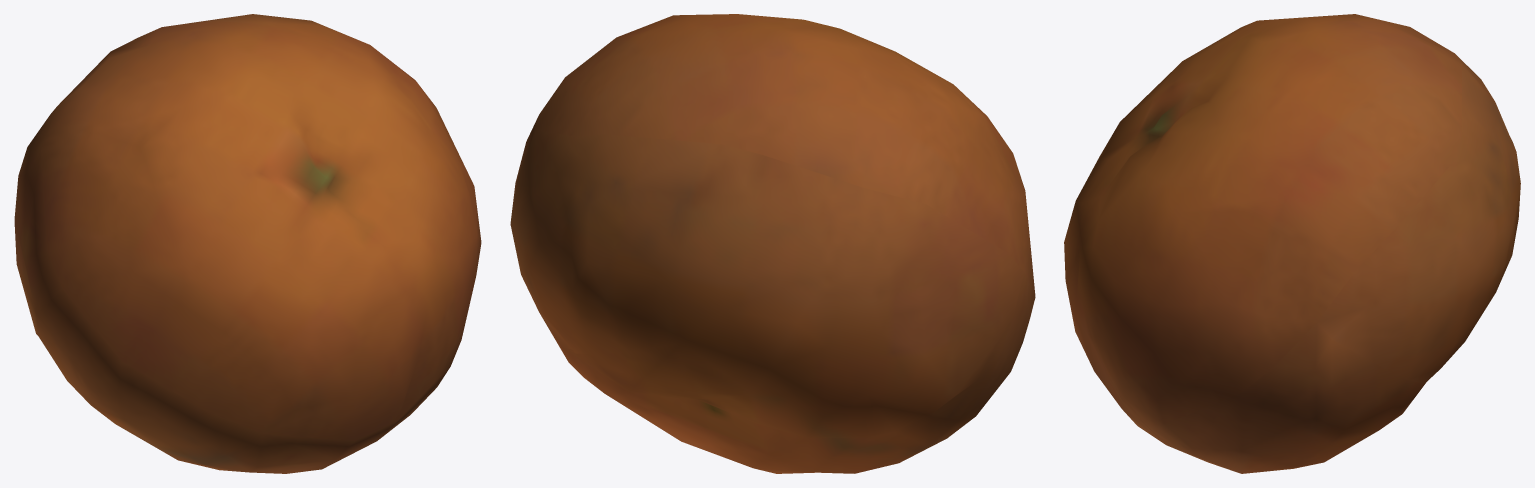
The model's file is Orange.obj.
3 renders of one model, left to right at view 1: azimuth 30°, elevation 25°; view 2: azimuth 150°, elevation 25°; view 3: azimuth 270°, elevation 25°, orthographic. The views are drawn at different scales.
Visible parts, largest first — view 1: MDCNQWOJLU01_LOD2(Clone)_Quality_40; view 2: MDCNQWOJLU01_LOD2(Clone)_Quality_40; view 3: MDCNQWOJLU01_LOD2(Clone)_Quality_40.
Part boxes in pixels (box(x1,y1,x2,y2)): MDCNQWOJLU01_LOD2(Clone)_Quality_40: box(14, 14, 481, 473); MDCNQWOJLU01_LOD2(Clone)_Quality_40: box(510, 14, 1035, 473); MDCNQWOJLU01_LOD2(Clone)_Quality_40: box(1064, 14, 1520, 473).
Bounding box in the file's own units: 1.05 × 0.983 × 0.9754.
